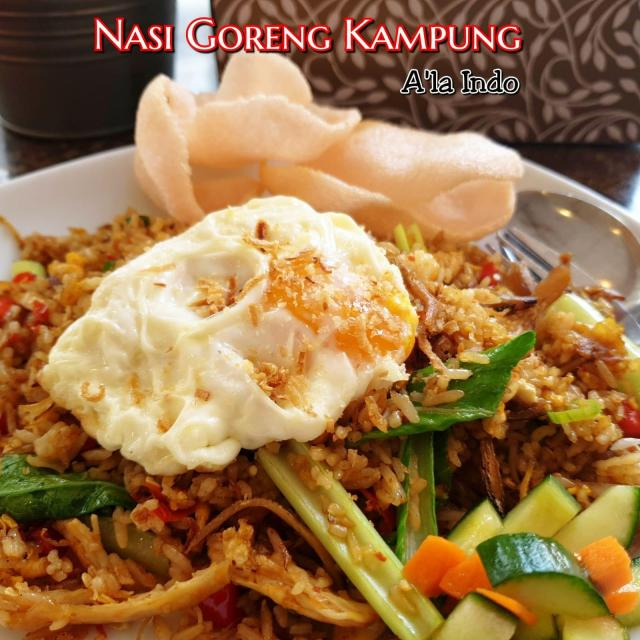Nasi Goreng: (0, 193, 640, 622)
